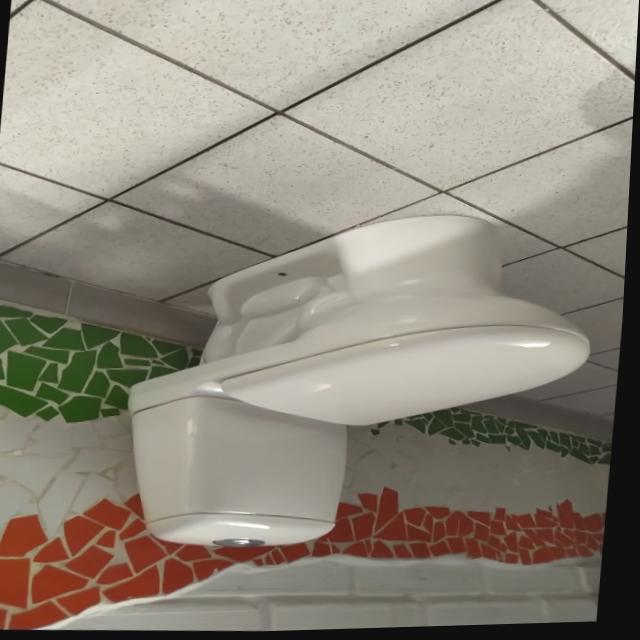toilet: (119, 203, 604, 564)
